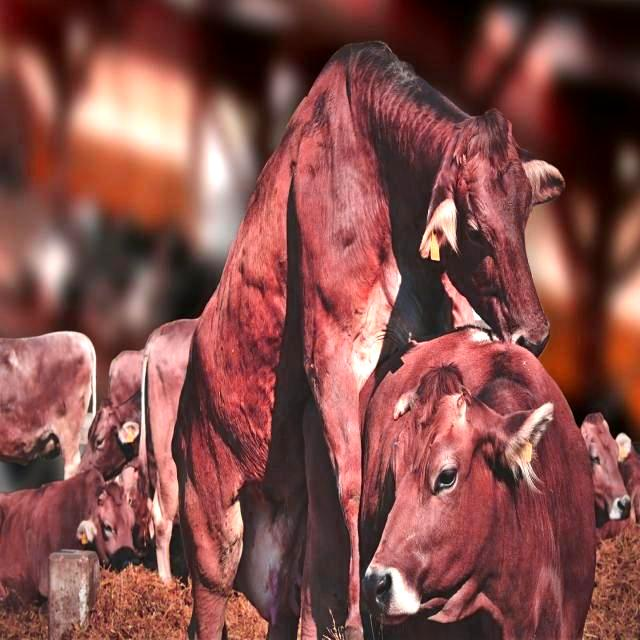COW: (175, 42, 564, 640), (360, 328, 595, 639)
